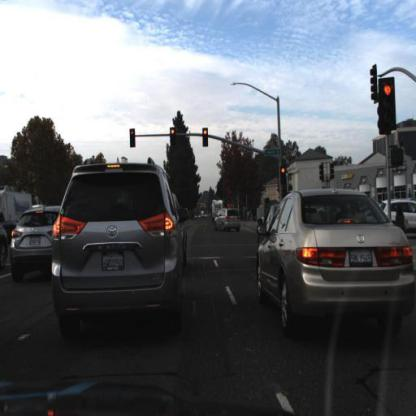car: (255, 189, 411, 340), (54, 161, 187, 333), (14, 206, 68, 279), (213, 203, 245, 237), (213, 207, 246, 239), (254, 203, 274, 252), (376, 205, 410, 230), (207, 199, 232, 229)
pedestrian: (395, 205, 407, 233)
trafficLight: (129, 125, 137, 151)
trafficLight-Red: (376, 74, 401, 142), (201, 124, 211, 152), (168, 126, 178, 149), (170, 130, 178, 153), (280, 165, 288, 188), (202, 128, 210, 147)
truck: (1, 187, 54, 237), (1, 189, 33, 235), (212, 197, 227, 223)
